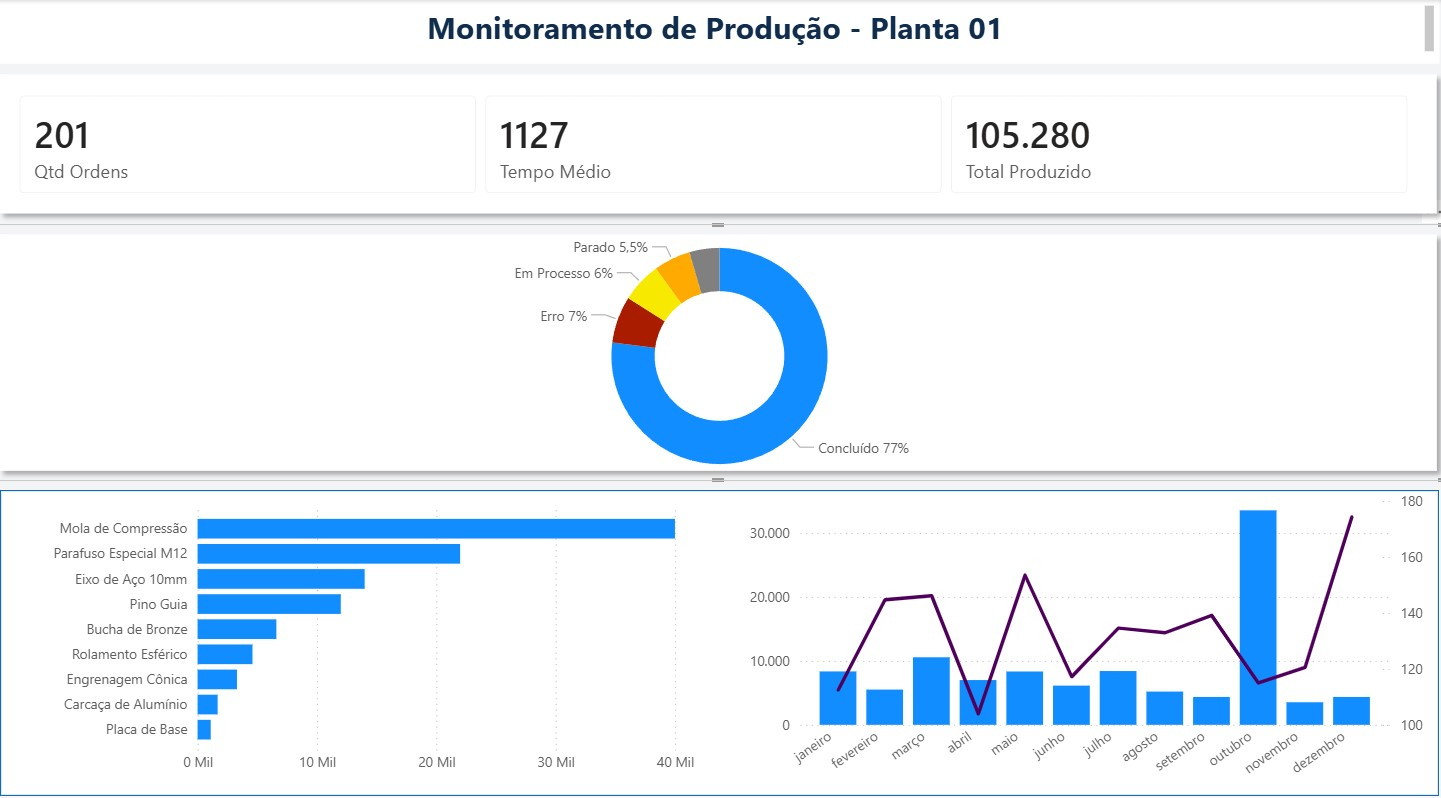

This screenshot's page, from the dashboard's own definition file:
{"tool":"powerbi","page":{"name":"Página 1","canvas":[1280,720],"ordinal":0},"visuals":[{"type":"shape","box":[0,196.7,1280.2,225.7],"z":0},{"type":"shape","box":[9.7,430.2,1263.5,268.7],"z":1000},{"type":"shape","box":[0,56.4,1280,140.1],"z":2000},{"type":"textbox","box":[0,0,1280,56.4],"z":3000},{"type":"cardVisual","fields":{"Data":["Arquivo de Dados.Qtd Ordens","Arquivo de Dados.Tempo Médio","Arquivo de Dados.Total Produzido"]},"box":[9.6,67.1,1255.1,120.8],"z":4000},{"type":"donutChart","fields":{"Category":["Arquivo de Dados.Status"],"Y":["Arquivo de Dados.Qtd Ordens"]},"box":[9.7,187.9,1263.5,249.4],"z":5000},{"type":"barChart","fields":{"Category":["Arquivo de Dados.Material"],"Y":["Arquivo de Dados.Total Produzido"]},"box":[42.1,433.8,582.1,253.8],"z":6000},{"type":"lineClusteredColumnComboChart","fields":{"Y":["Arquivo de Dados.Total Produzido"],"Category":["Arquivo de Dados.Data.Variation.Hierarquia de datas.Ano","Arquivo de Dados.Data.Variation.Hierarquia de datas.Mês","Arquivo de Dados.Data.Variation.Hierarquia de datas.Dia"],"Y2":["Arquivo de Dados.Tempo Médio"]},"box":[662.9,425.9,601.5,276.6],"z":7000}]}

Visuals, with their boxes in screenshot pixels (x1, y1, x2, y2), scaled from the page's 1280x720 canvas onto the 1441x798 screenshot:
shape: select_region(0, 218, 1440, 468)
shape: select_region(11, 477, 1433, 775)
shape: select_region(0, 63, 1440, 218)
textbox: select_region(0, 0, 1440, 63)
cardVisual - Arquivo de Dados.Qtd Ordens x Arquivo de Dados.Tempo Médio: select_region(11, 74, 1424, 208)
donutChart - Arquivo de Dados.Status x Arquivo de Dados.Qtd Ordens: select_region(11, 208, 1433, 485)
barChart - Arquivo de Dados.Material x Arquivo de Dados.Total Produzido: select_region(47, 481, 703, 762)
lineClusteredColumnComboChart - Arquivo de Dados.Total Produzido x Arquivo de Dados.Data.Variation.Hierarquia de datas.Ano: select_region(746, 472, 1423, 779)
